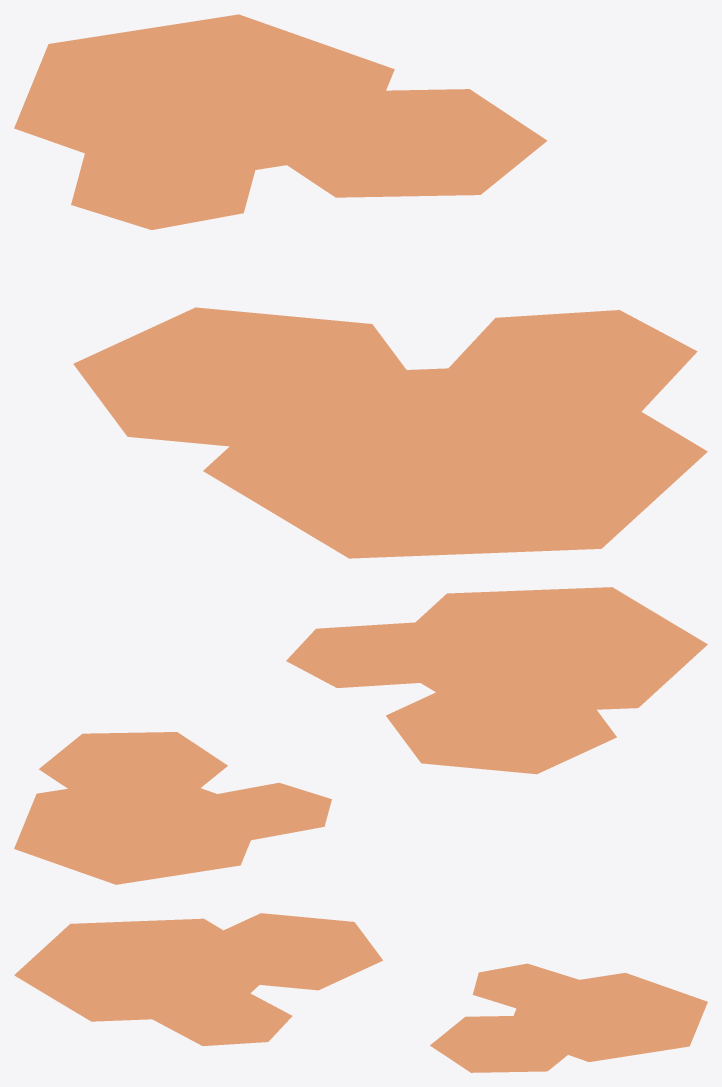
Rendered from pancakes.GLB.
3 views of the same model, one above another, from view 1: azimuth 30°, elevation 25°; view 2: azimuth 150°, elevation 25°; view 3: azimuth 270°, elevation 25° (orthographic). The views are drawn at different scales.
Visible parts, largest first — view 1: pancakes; view 2: pancakes; view 3: pancakes.
Part boxes in pixels (x1,y1,x2,y2): pancakes: [14, 14, 707, 558]; pancakes: [14, 587, 707, 884]; pancakes: [14, 913, 707, 1072].
Size of the model in its own units: 0.2575 by 3.11e-16 by 0.4727.
